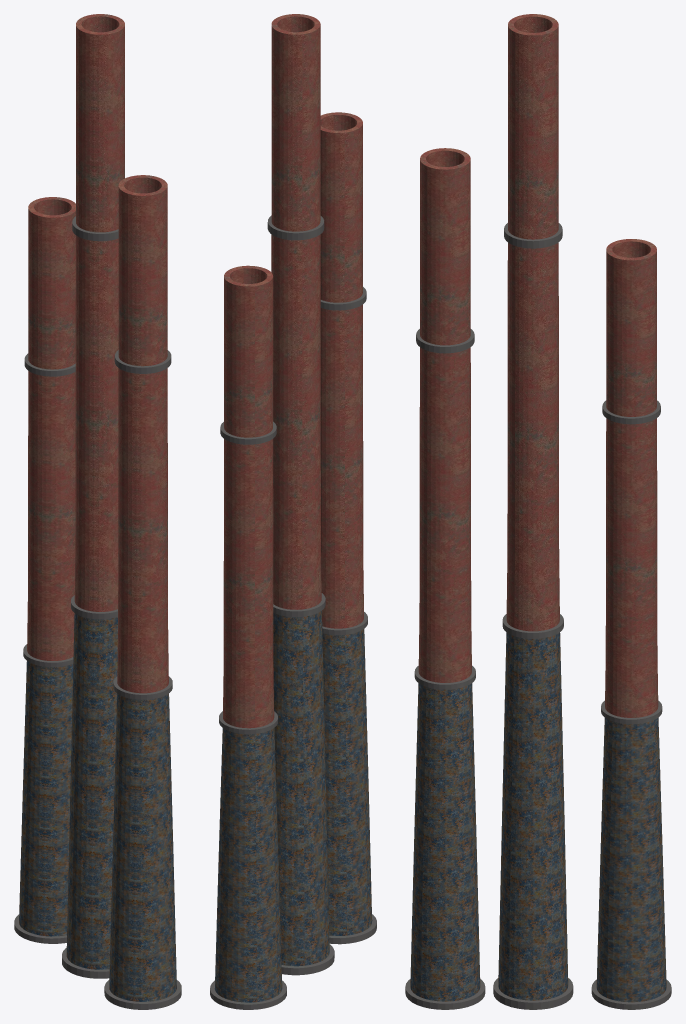
The model's file is ew-smoke-stacks.lod0.glb.
3 renders of one model, left to right at view 1: azimuth 30°, elevation 25°; view 2: azimuth 150°, elevation 25°; view 3: azimuth 270°, elevation 25°, orthographic. The views are drawn at different scales.
Visible parts, largest first — view 1: Object_4, Object_5, Object_6; view 2: Object_4, Object_5, Object_6; view 3: Object_4, Object_5, Object_6.
Part boxes in pixels (x1,y1,x2,y2): Object_4: (27, 14, 168, 693); Object_5: (19, 613, 176, 1001); Object_6: (14, 216, 181, 1009); Object_4: (223, 14, 363, 728); Object_5: (214, 611, 372, 1002); Object_6: (210, 215, 376, 1009); Object_4: (418, 14, 658, 717); Object_5: (410, 632, 666, 1002); Object_6: (405, 223, 671, 1009).
Bounding box in the file's own units: 3.29 × 44 × 10.96.
Materials: 3 (3 with a texture image).
